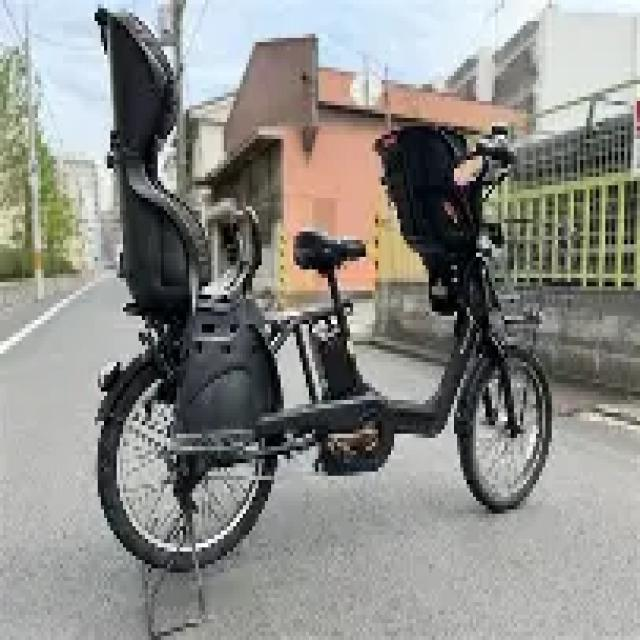battery: (309, 322, 354, 409)
childseat: (84, 0, 290, 456), (372, 126, 506, 318)
